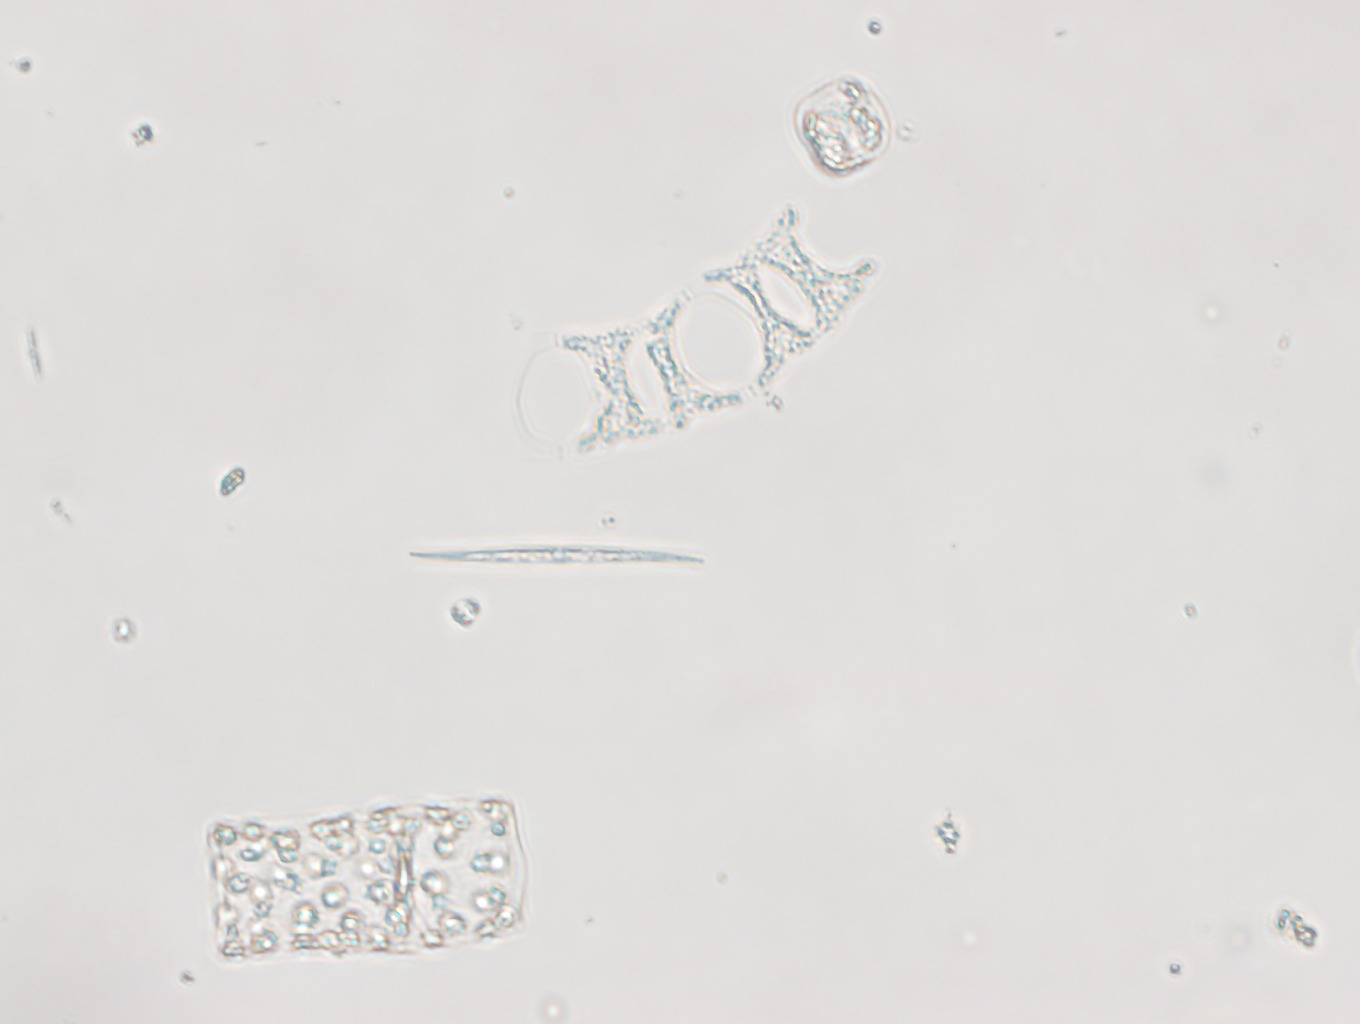eucampia: (511, 202, 878, 461)
guinardia flaccida: (206, 798, 528, 963)
pleurosigma pelagicum: (410, 545, 708, 567)
